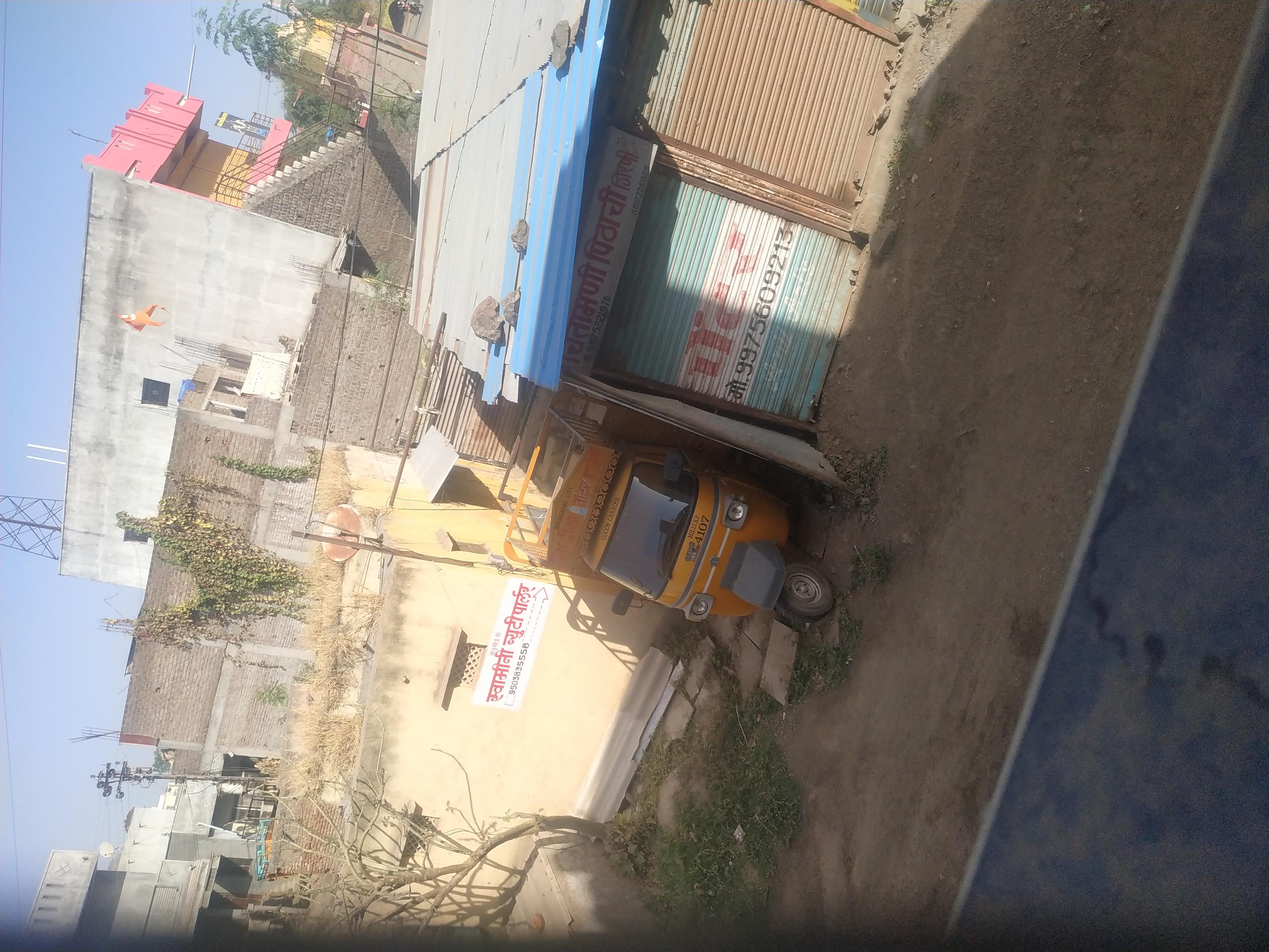Auto: (408, 434, 687, 634)
